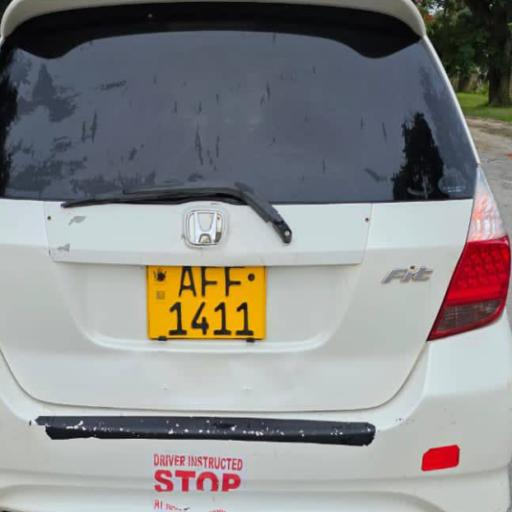number-plates: (145, 260, 270, 340)
